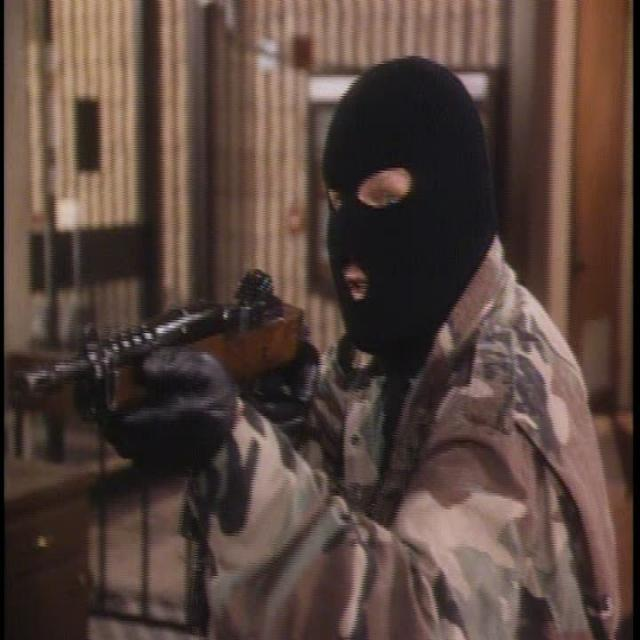gun-knife-thesis - v11 Yolov5 augmented: (31, 265, 323, 527)
